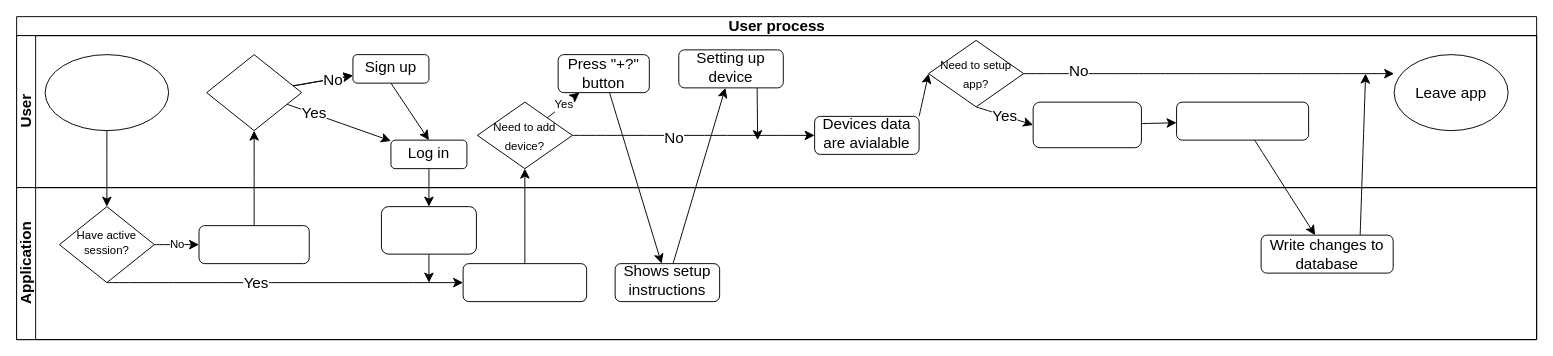
This 1553x356 diagram has some shape labels left out. The shapes that lost their labels are listed below. From the top down, each one's centre as x and y in pixels, then its label:
At (106,92): "User scanned qr code on a device".
At (254,92): "Have an account?".
At (1086,124): "Setup alarms".
At (1242,120): "Change devices access policies".
At (253,244): "Redirect to login page".
At (428,230): "Creating session".
At (524,282): "Redirect to application main page".
